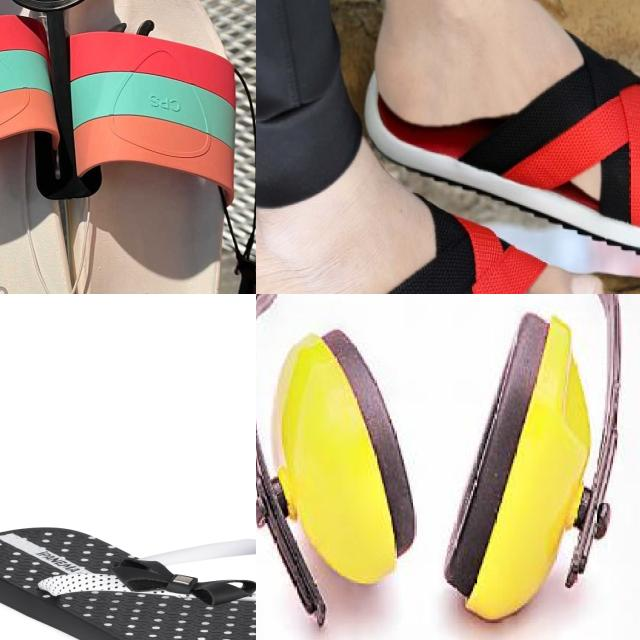Ear-protection: (257, 294, 628, 613)
Sandals: (0, 0, 256, 294), (372, 34, 640, 256), (256, 166, 611, 294), (0, 524, 256, 640)
